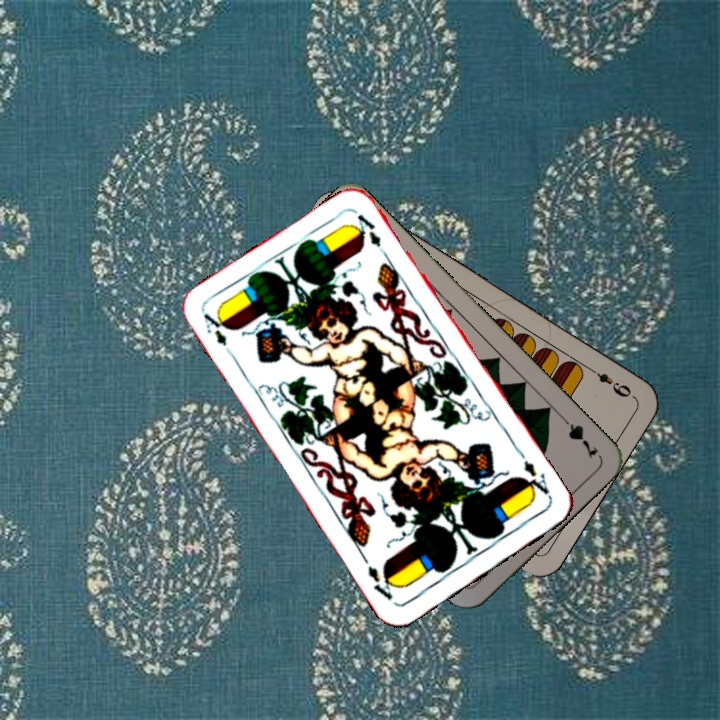E9: (583, 362, 635, 400)
EA: (199, 308, 238, 361), (517, 456, 554, 502)
G7: (555, 411, 601, 461)
